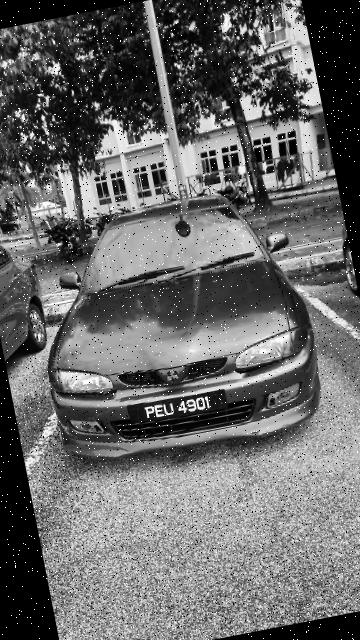License_Plate: (125, 382, 233, 434)
car: (10, 176, 338, 482)
